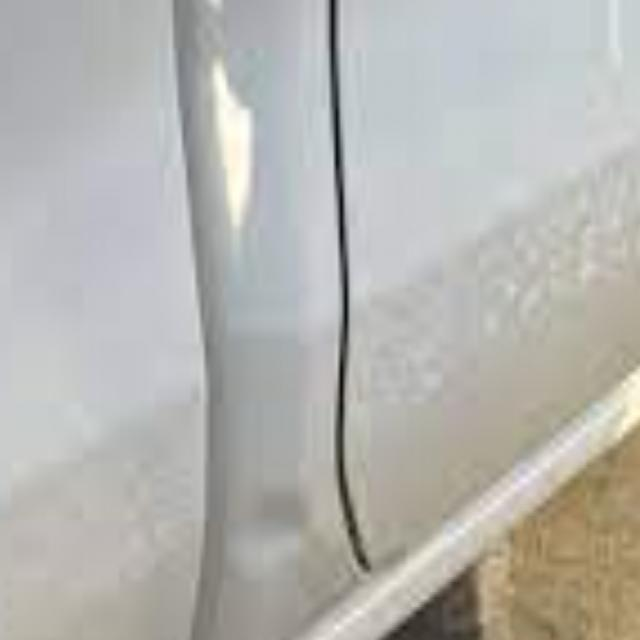dents: (230, 447, 334, 606)
